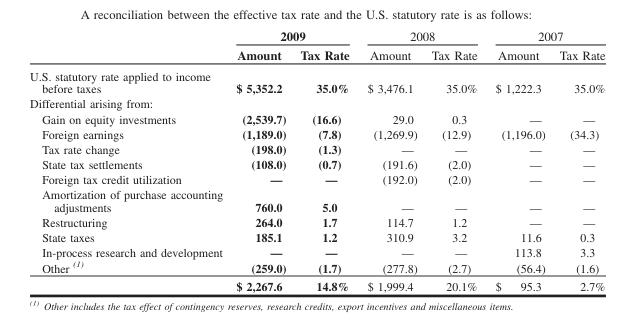table: (29, 28, 604, 293)
table column: (29, 28, 228, 293), (357, 28, 423, 293), (485, 28, 551, 293), (292, 28, 357, 293), (228, 28, 292, 293), (423, 28, 485, 293), (551, 28, 604, 293)
table column header: (29, 28, 604, 65)
table projected row header: (29, 95, 604, 110)
table row: (29, 65, 604, 95), (29, 186, 604, 214), (29, 45, 604, 65), (29, 28, 604, 45), (29, 259, 604, 276), (29, 276, 604, 293), (29, 140, 604, 156), (29, 95, 604, 110), (29, 110, 604, 125), (29, 125, 604, 140), (29, 156, 604, 171), (29, 171, 604, 186), (29, 214, 604, 229), (29, 229, 604, 244), (29, 244, 604, 259)
table spanning cell: (228, 28, 357, 45), (357, 28, 485, 45), (485, 28, 604, 45)
